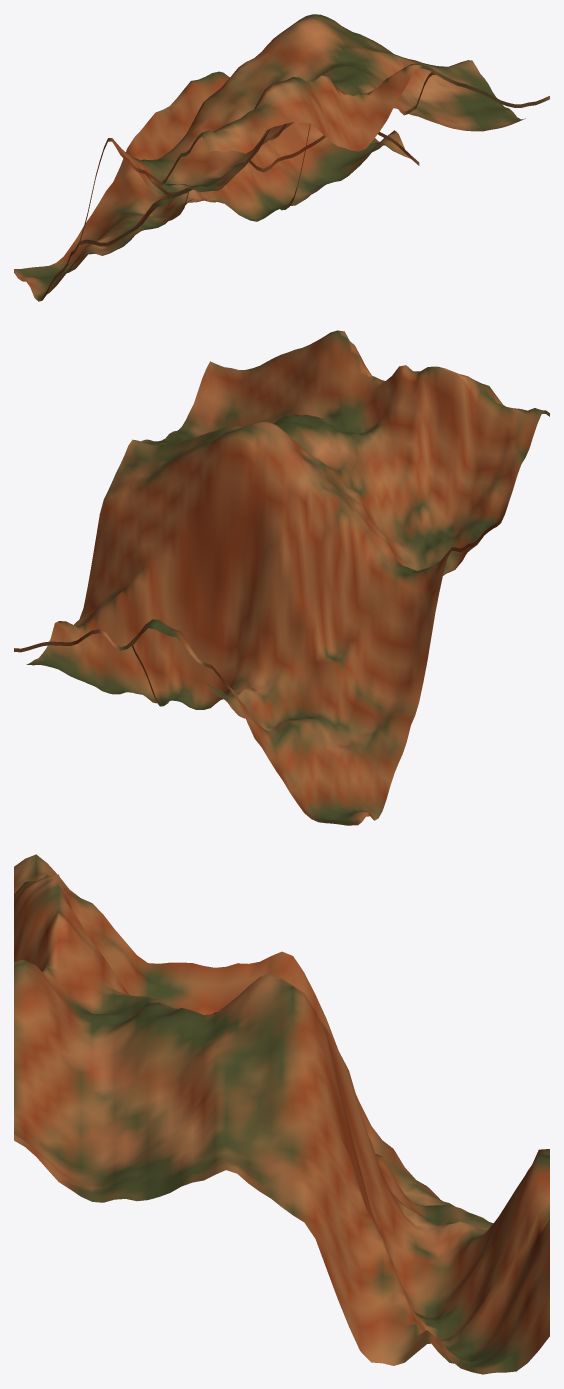
The model's file is terrain-041.glb.
3 views of the same model, one above another, from view 1: azimuth 30°, elevation 25°; view 2: azimuth 150°, elevation 25°; view 3: azimuth 270°, elevation 25° (orthographic). The views are drawn at different scales.
Parts seen in each view (by area): view 1: terrain-041; view 2: terrain-041; view 3: terrain-041.
Boxes of the visible parts, box(x1,y1,x2,y2) form: terrain-041: box(14, 14, 549, 301); terrain-041: box(14, 330, 549, 825); terrain-041: box(14, 854, 549, 1374).
Size of the model in its own units: 384 by 339 by 384.
